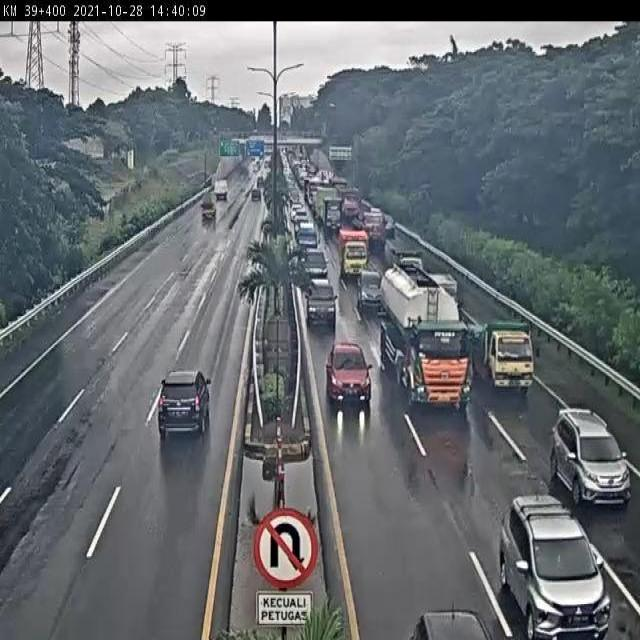car: (156, 365, 213, 440), (323, 342, 374, 406), (302, 277, 337, 327), (355, 271, 386, 317), (300, 249, 329, 288)
truck-m-: (466, 318, 538, 394), (386, 242, 429, 286), (339, 231, 372, 284)
truck-xl-: (377, 264, 476, 417)
